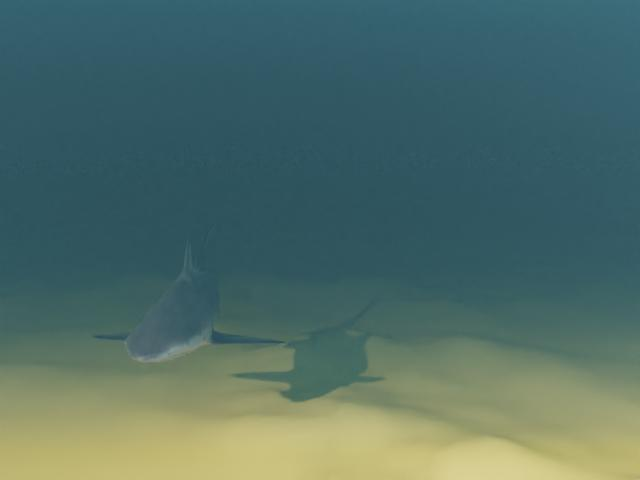Carribean Shark.001: (91, 215, 286, 362)
